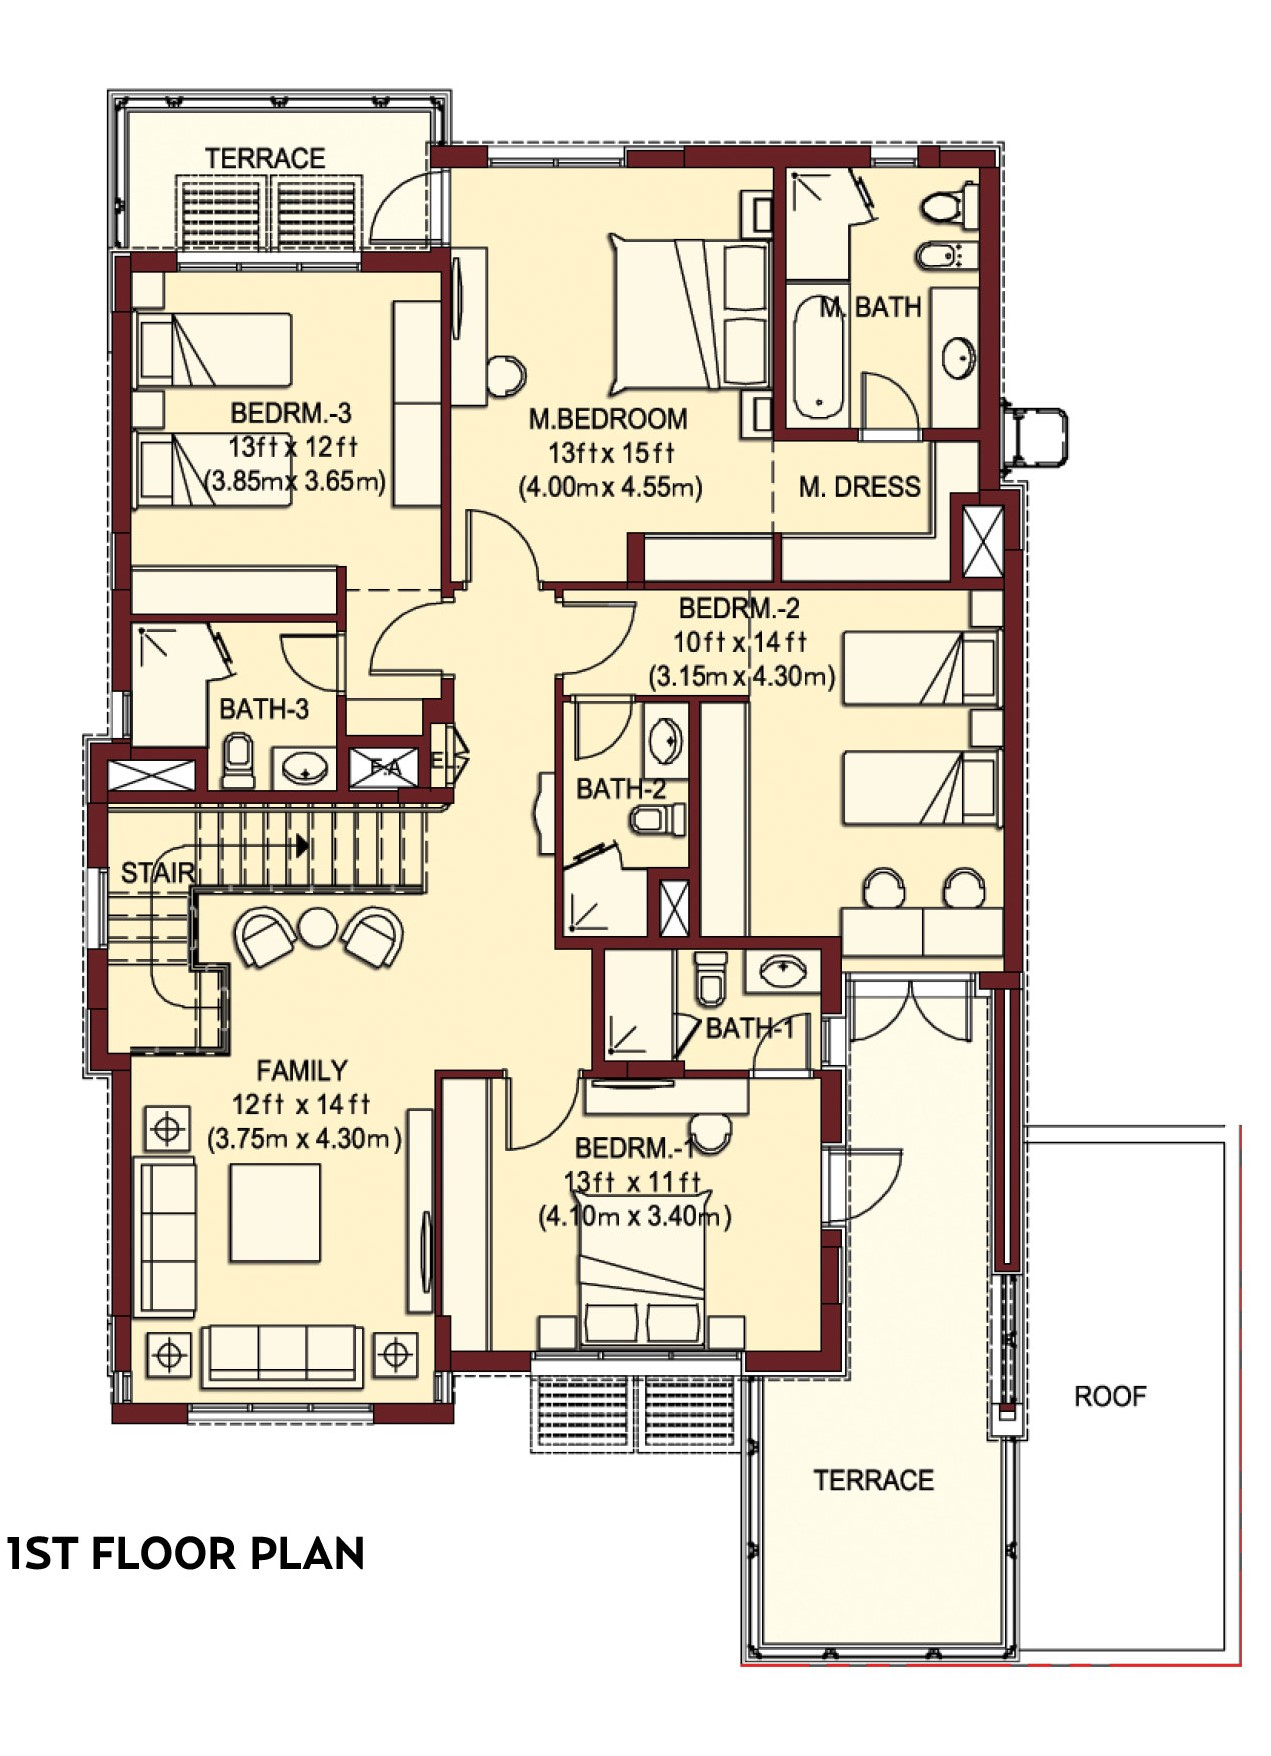wall: (996, 483, 1031, 1275), (112, 1059, 139, 1415), (112, 240, 134, 680), (762, 145, 792, 442), (547, 575, 1012, 594), (436, 243, 458, 603), (428, 1069, 450, 1363), (98, 787, 450, 804), (682, 694, 706, 939), (555, 933, 844, 953), (629, 142, 869, 166), (976, 142, 993, 498), (85, 934, 117, 1068), (82, 732, 112, 862), (816, 1226, 841, 1376), (552, 667, 566, 952), (588, 1057, 751, 1078), (355, 240, 450, 275), (769, 413, 858, 449), (590, 937, 612, 1080), (365, 1393, 451, 1429), (123, 614, 346, 626), (431, 1348, 530, 1376), (817, 934, 850, 1010), (106, 1397, 179, 1432), (340, 727, 436, 751), (745, 1346, 836, 1372), (431, 1059, 506, 1091), (93, 742, 205, 761), (816, 1063, 841, 1142), (925, 413, 982, 449), (331, 727, 359, 791), (331, 560, 355, 633), (117, 248, 185, 273), (623, 532, 651, 588), (923, 142, 990, 164), (436, 1313, 450, 1415), (952, 491, 966, 588), (428, 142, 488, 161), (90, 1053, 123, 1078), (771, 532, 781, 579)
